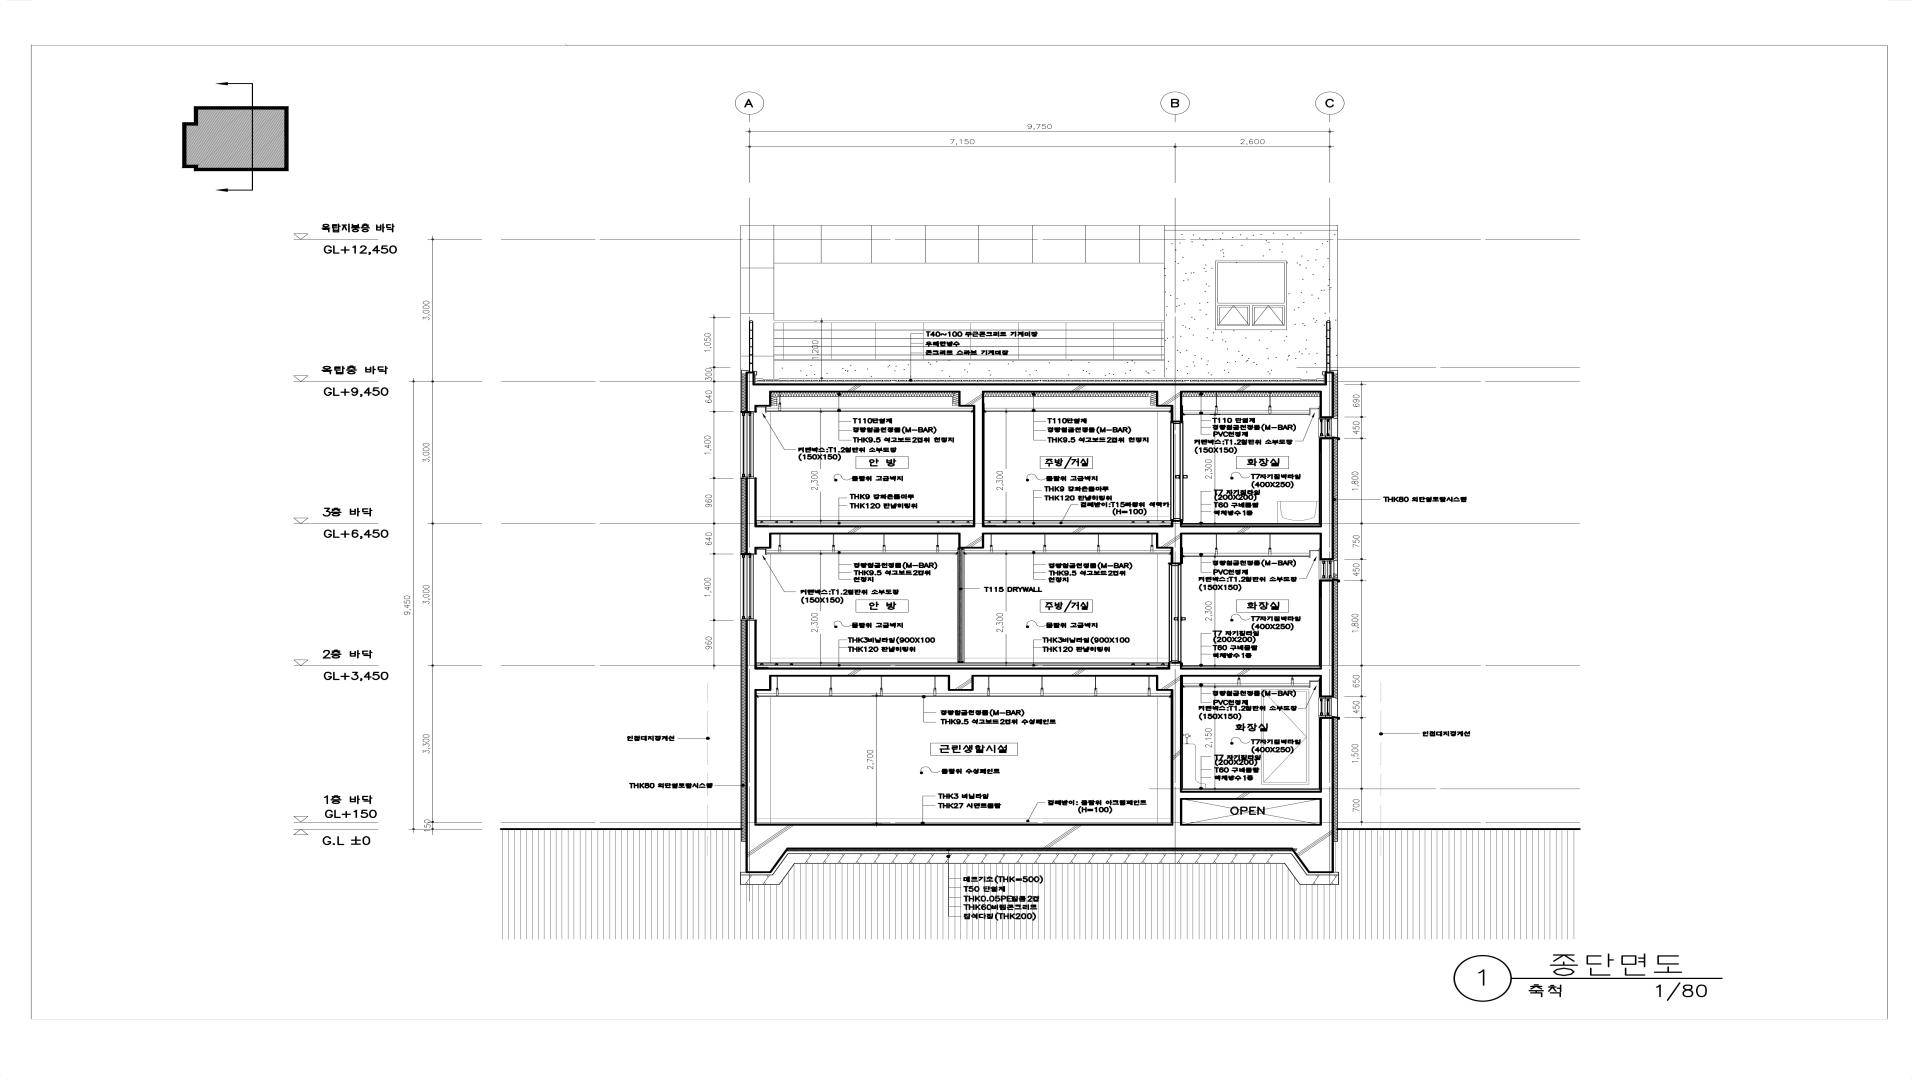door: (1261, 690, 1309, 785), (1168, 563, 1182, 662), (1171, 421, 1183, 521)
wall: (746, 580, 1335, 824), (745, 406, 1335, 563), (741, 225, 1164, 384), (746, 799, 1335, 873), (745, 372, 1333, 421), (1164, 225, 1337, 384)
window: (1216, 261, 1287, 330), (740, 413, 754, 479), (741, 554, 754, 620), (1319, 560, 1335, 580), (1319, 698, 1333, 717), (1319, 418, 1332, 438)
